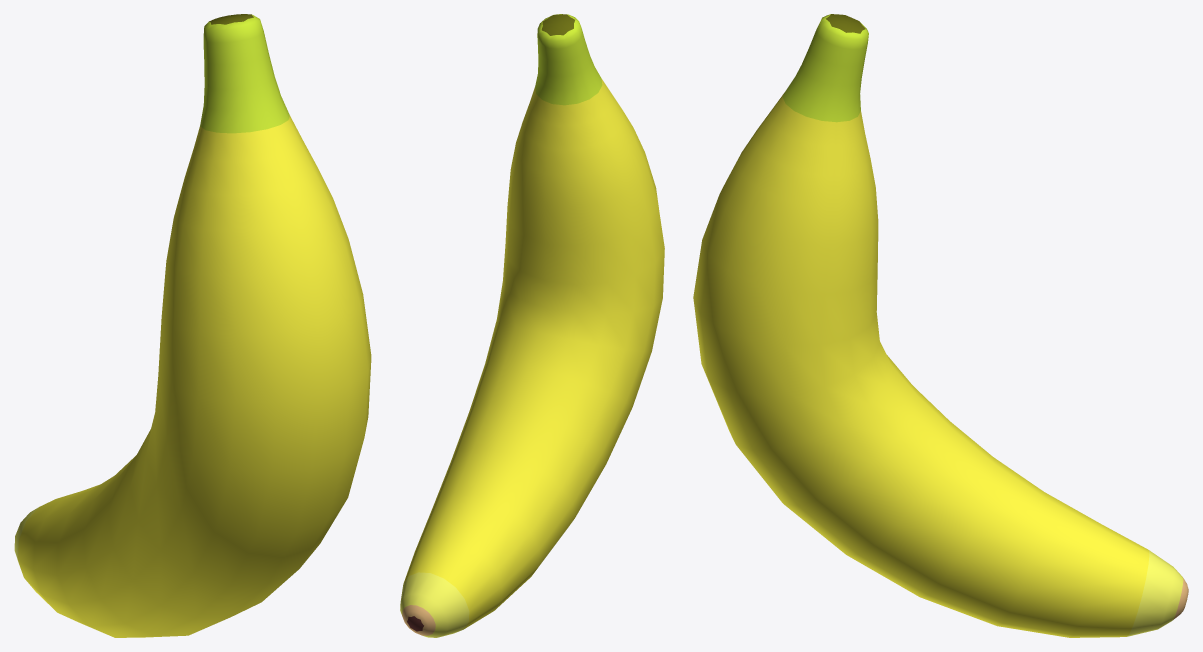
File: Smooth_banana_1.fbx
The picture shows the model from 3 angles, left to right: view 1: azimuth 30°, elevation 25°; view 2: azimuth 150°, elevation 25°; view 3: azimuth 270°, elevation 25°; orthographic projection. The views are drawn at different scales.
Parts seen in each view (by area): view 1: Smooth_banana_0; view 2: Smooth_banana_0; view 3: Smooth_banana_0.
Part boxes in pixels (bbox=[...]): Smooth_banana_0: bbox=[14, 14, 371, 637]; Smooth_banana_0: bbox=[400, 14, 664, 637]; Smooth_banana_0: bbox=[693, 14, 1188, 637].
Bounding box in the file's own units: 67.81 × 240 × 175.
